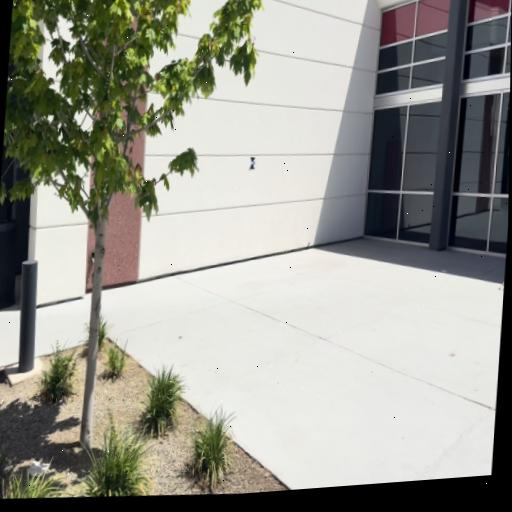target0: (250, 157, 256, 169)
